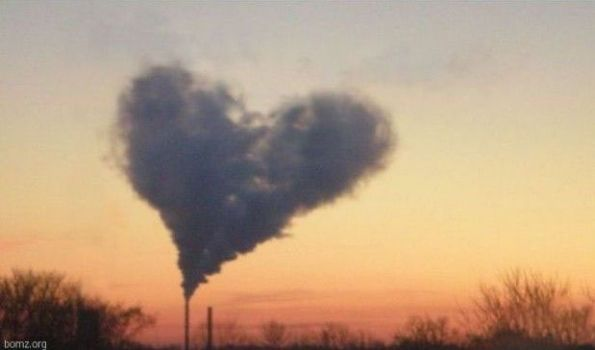dust: (134, 168, 271, 311)
